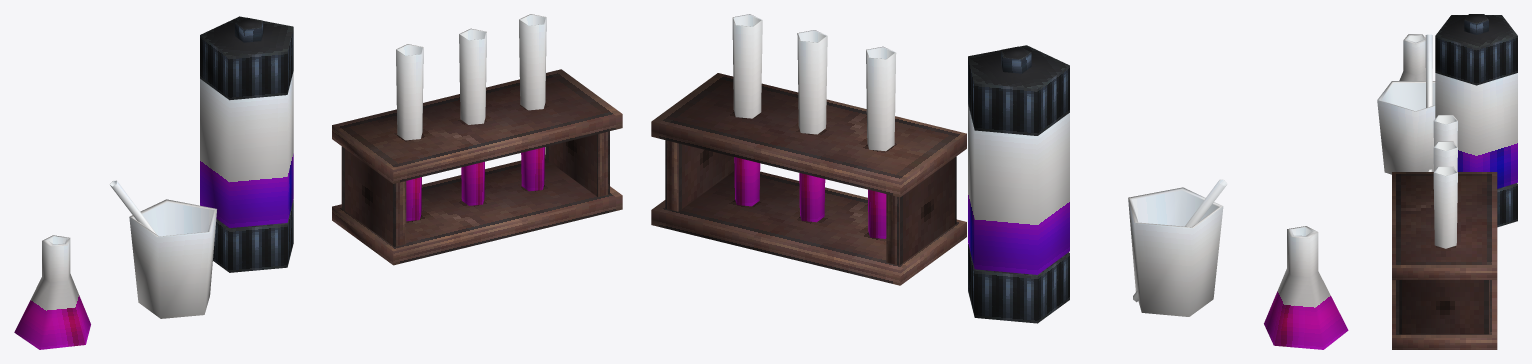
The model's file is a_SCgen34.glb.
3 views of the same model, side by side, from view 1: azimuth 30°, elevation 25°; view 2: azimuth 150°, elevation 25°; view 3: azimuth 270°, elevation 25° (orthographic). The views are drawn at different scales.
Parts seen in each view (by area): view 1: a_SCgen34; view 2: a_SCgen34; view 3: a_SCgen34.
Part boxes in pixels (left/top/right/bottom): a_SCgen34: left=14, top=14, right=622, bottom=349; a_SCgen34: left=651, top=14, right=1348, bottom=349; a_SCgen34: left=1377, top=14, right=1517, bottom=349.
Bounding box in the file's own units: 0.6521 × 0.2452 × 0.1586.
Materials: 2 (2 with a texture image).
